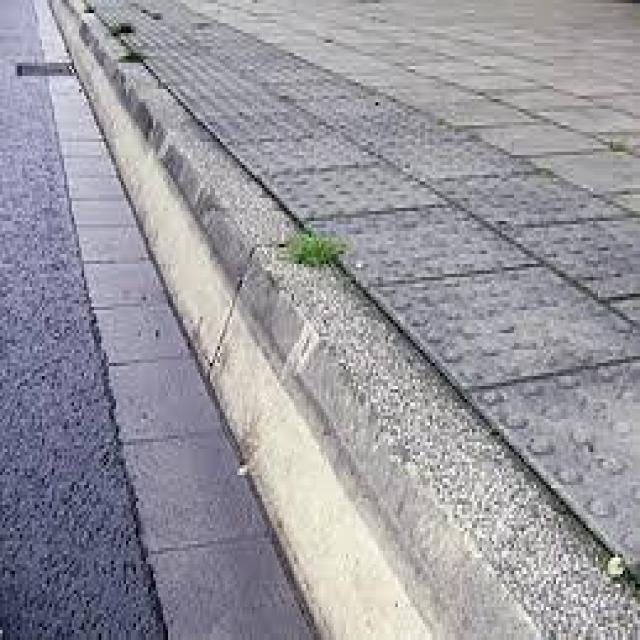curb: (230, 376, 640, 631), (139, 140, 394, 406), (48, 8, 155, 120)
